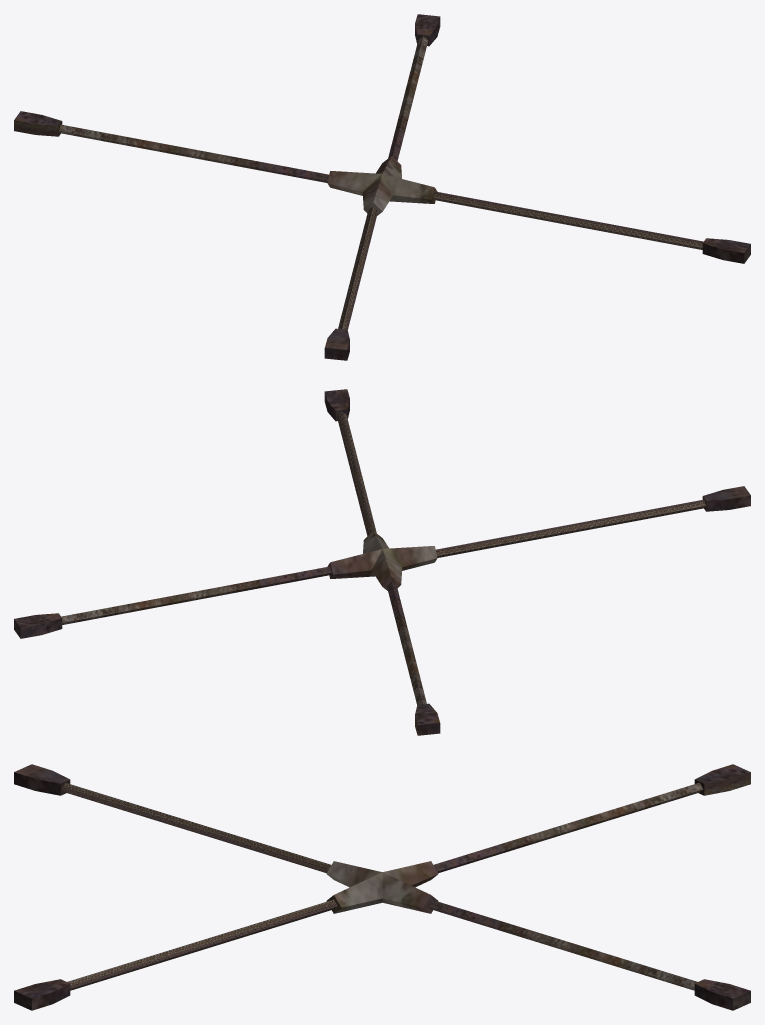
The model's file is prop_pipetower_crossbar.glb.
3 views of the same model, one above another, from view 1: azimuth 30°, elevation 25°; view 2: azimuth 150°, elevation 25°; view 3: azimuth 270°, elevation 25° (orthographic). The views are drawn at different scales.
Size of the model in its own units: 60.87 by 3.7 by 80.82.
Materials: 1 (1 with a texture image).
